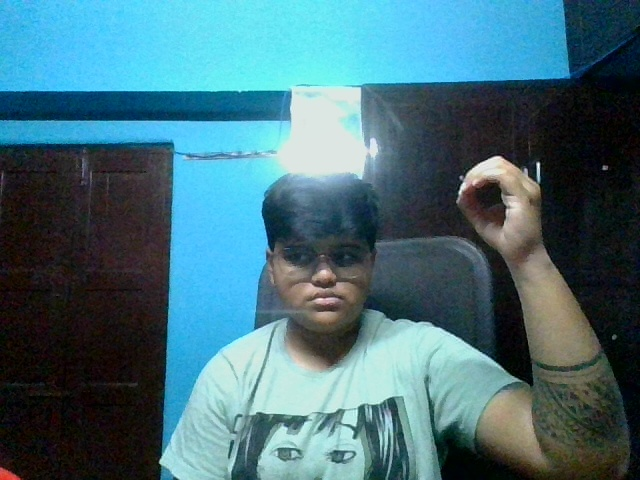O: (451, 147, 550, 268)
